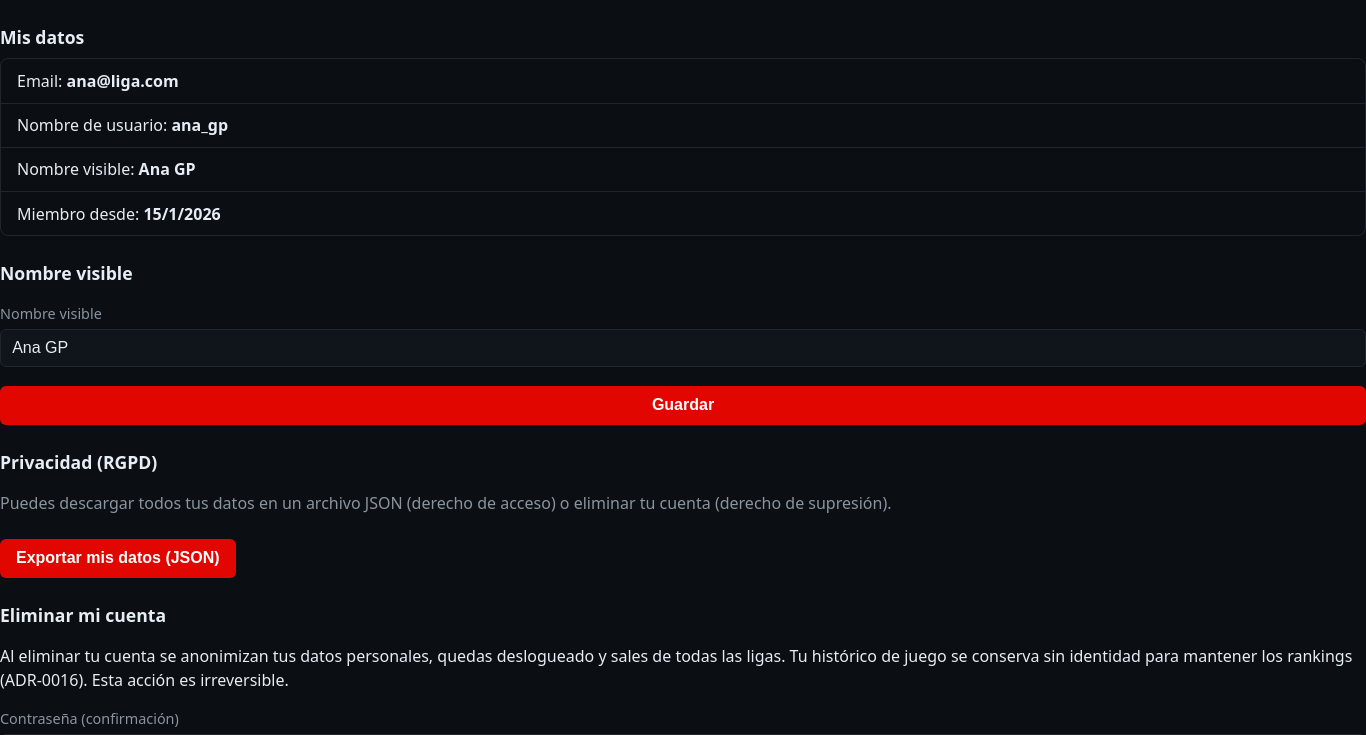
PerfilPage › export: descarga un JSON con los datos del usuario
Click the button "Exportar mis datos (JSON)". click: (118, 558)
box: [0, 539, 236, 578]
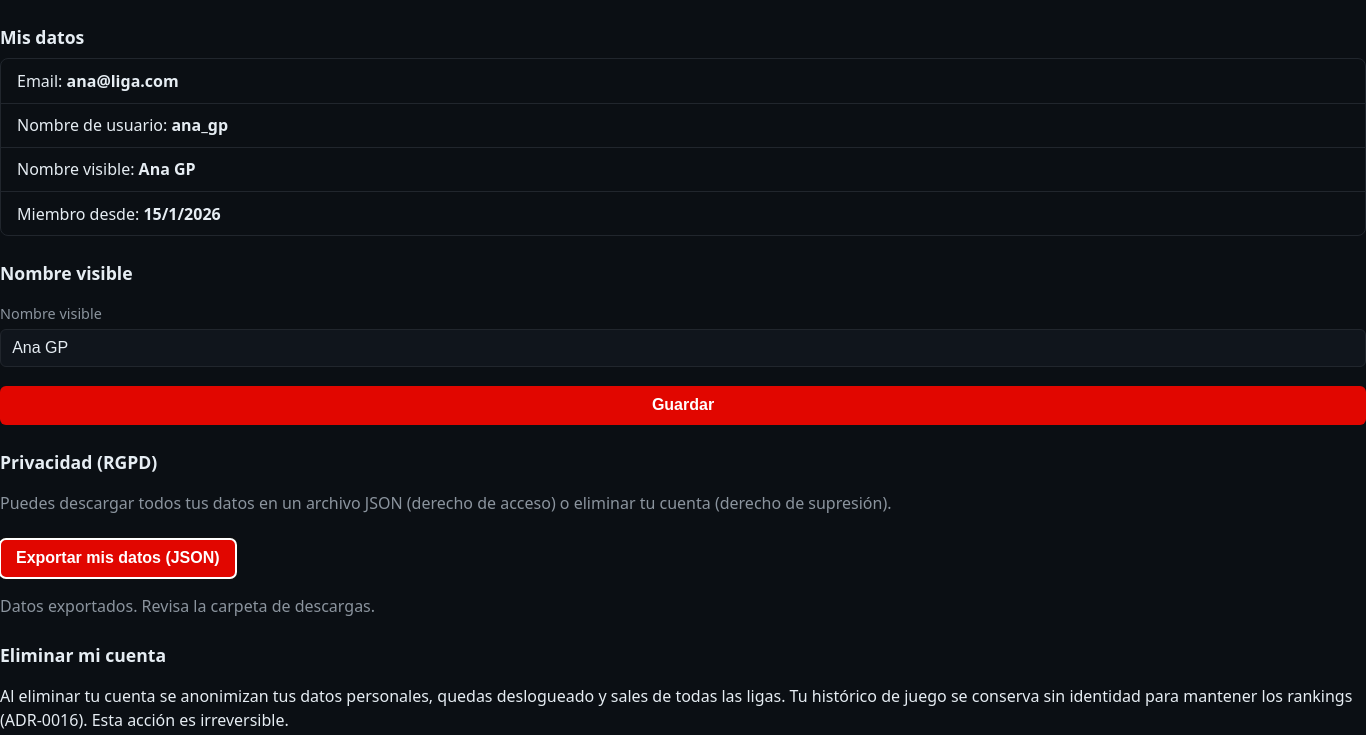
Result: the text "Datos exportados. Revisa la carpeta de descargas." is shown at [0, 595, 375, 617]
